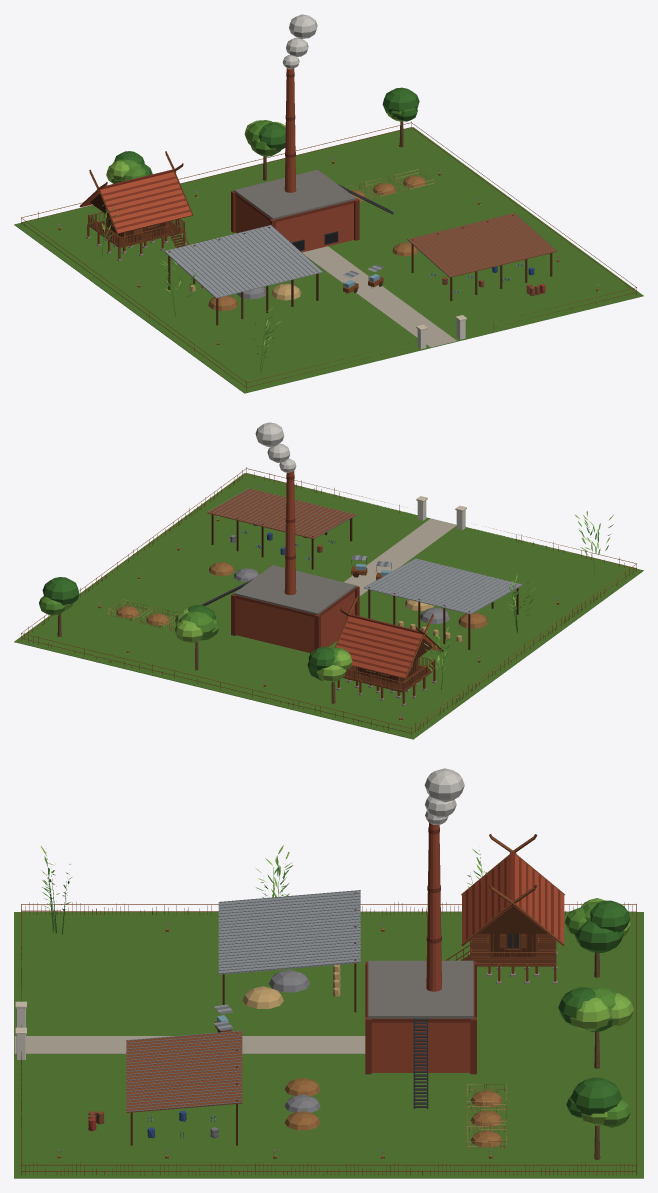
File: waste.glb
3 views of the same model, one above another, from view 1: azimuth 30°, elevation 25°; view 2: azimuth 150°, elevation 25°; view 3: azimuth 270°, elevation 25° (orthographic). The views are drawn at different scales.
Parts seen in each view (by area): view 1: body; view 2: body; view 3: body.
Boxes of the visible parts, x1,y1,x2,y2 form: body: (14, 14, 643, 393); body: (14, 422, 643, 739); body: (14, 768, 643, 1178).
Size of the model in its own units: 47.9 by 24.23 by 47.9.
